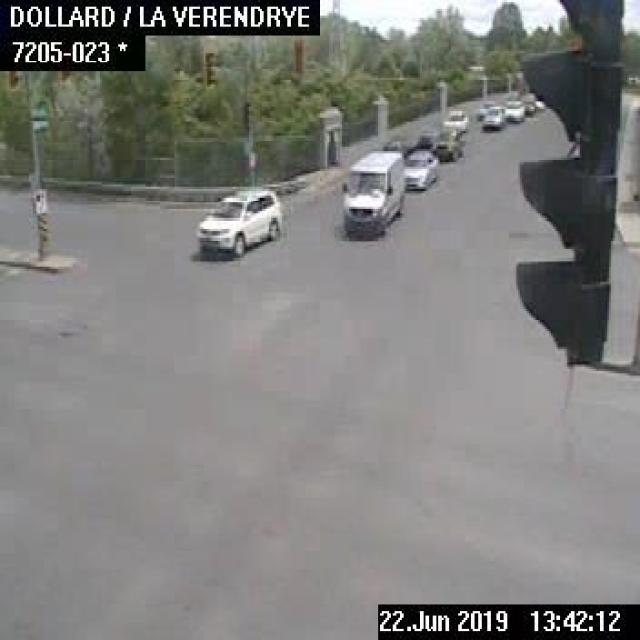vehicle: (194, 182, 282, 258), (338, 149, 404, 238), (401, 147, 439, 192), (431, 133, 463, 160), (440, 107, 468, 133), (477, 104, 501, 134), (503, 95, 524, 123)
